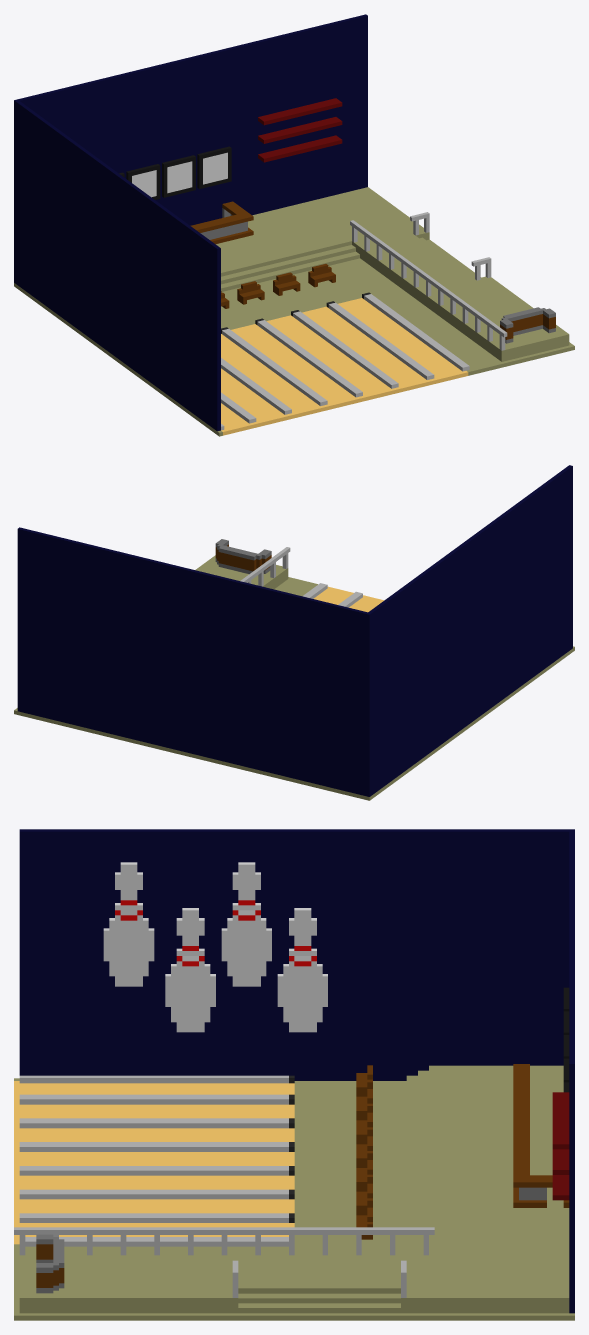
File: Bowling no details-0.obj
3 renders of one model, top to bottom at view 1: azimuth 30°, elevation 25°; view 2: azimuth 150°, elevation 25°; view 3: azimuth 270°, elevation 25°, orthographic. The views are drawn at different scales.
Visible parts, largest first — view 1: Bowling no details-0; view 2: Bowling no details-0; view 3: Bowling no details-0.
Part boxes in pixels (bbox=[...]): Bowling no details-0: bbox=[14, 14, 574, 436]; Bowling no details-0: bbox=[14, 465, 574, 800]; Bowling no details-0: bbox=[14, 829, 574, 1320].
Size of the model in its own units: 100 by 50 by 100.
1 material, 1 textured.
